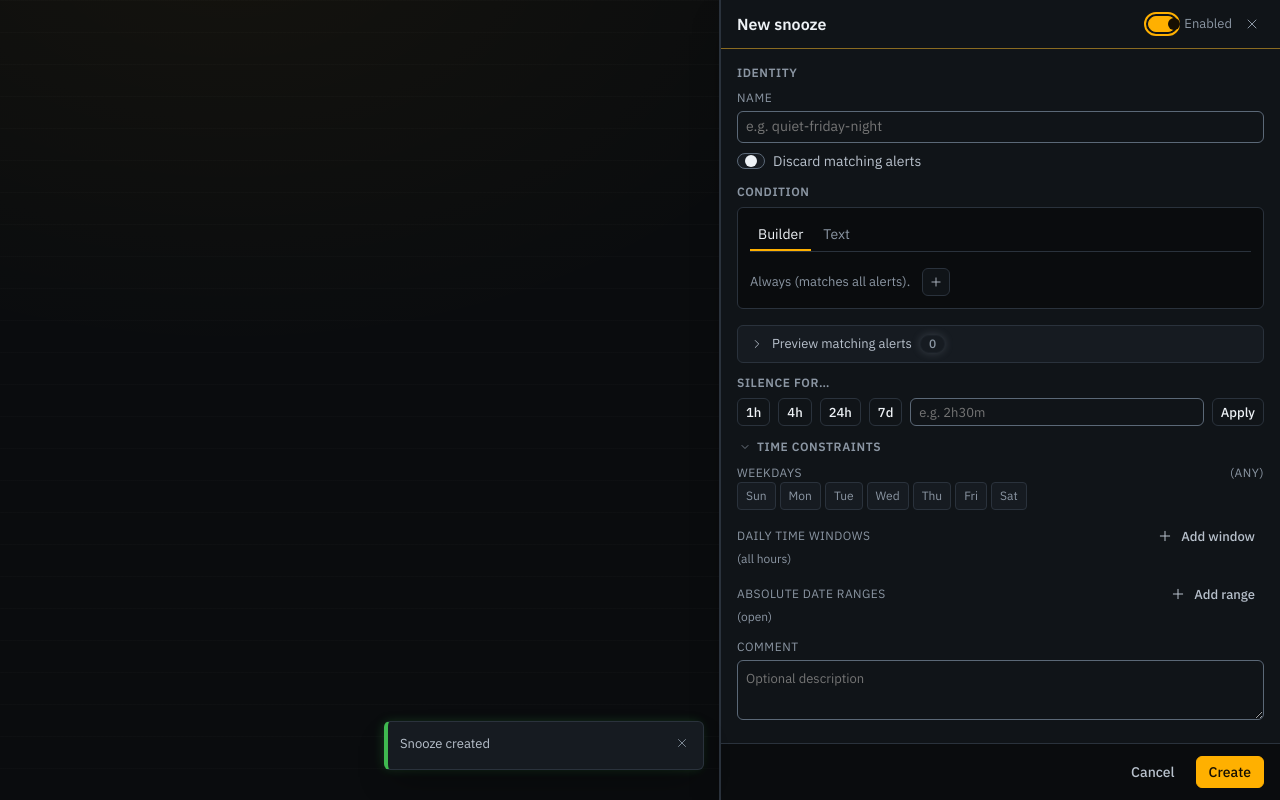
Scenario: SnoozeEditor › blocks save when a time range is left incomplete (no silent never-matching snooze)
Type "quiet-friday" into the field labelled "Name".
click(1000, 127); type("quiet-friday")  # box x1=738 y1=116 x2=1263 y2=137
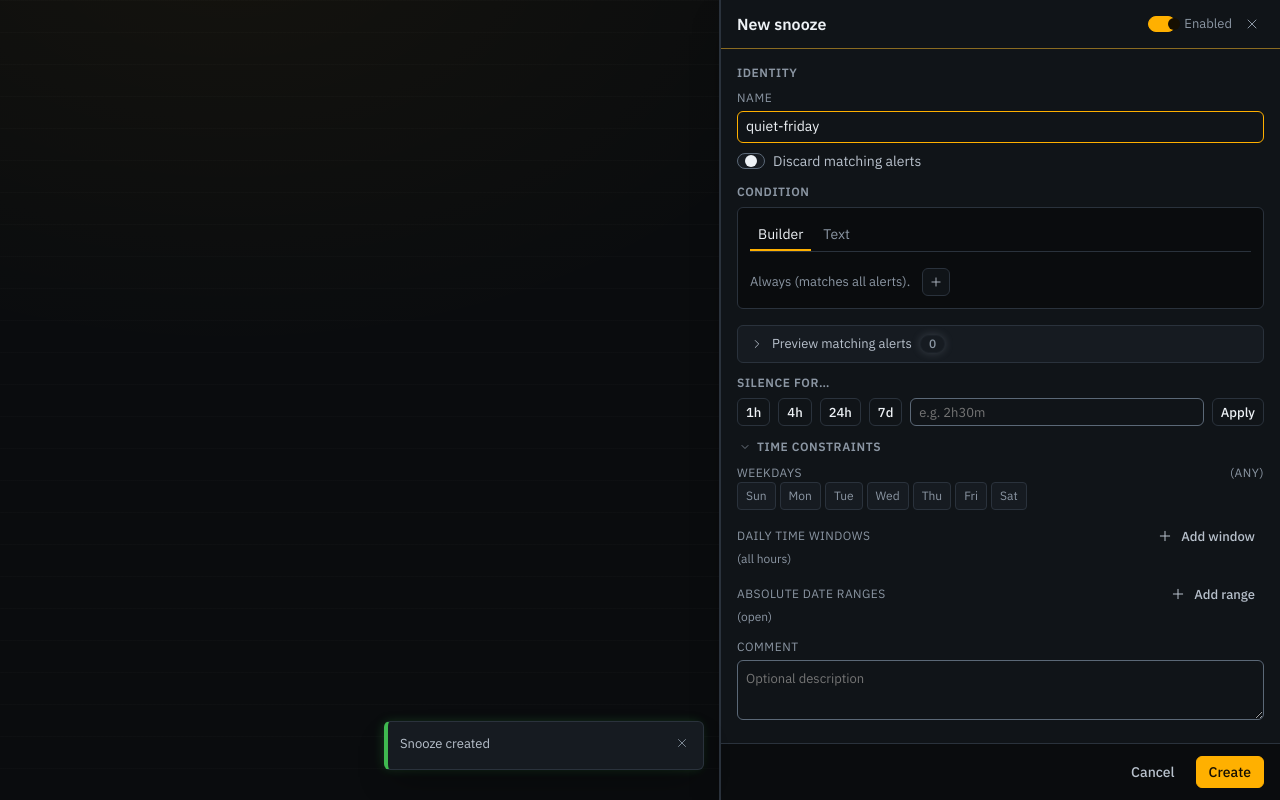
Add an absolute date range but leave both bounds empty.
Click the button "Add range".
click(1213, 594)  # box x1=1161 y1=580 x2=1264 y2=608
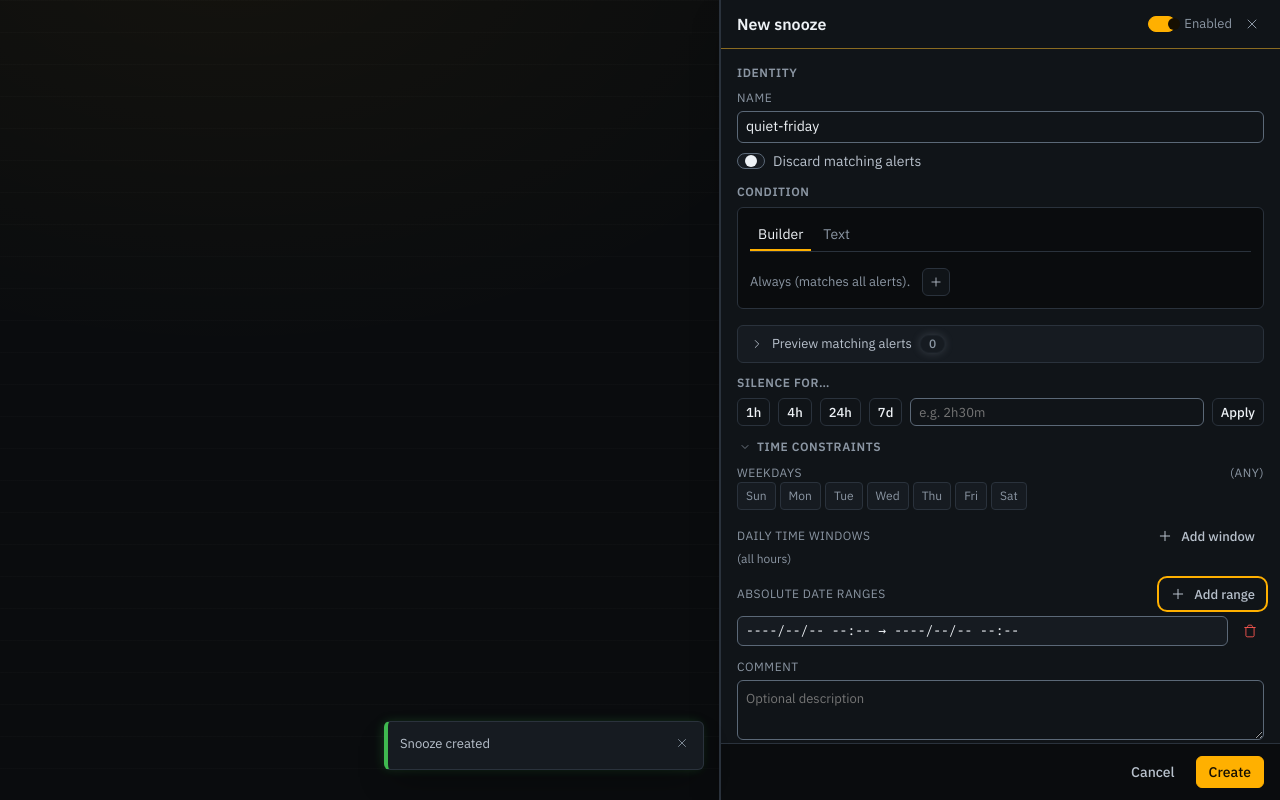
Click the button "Create".
click(1230, 772)  # box x1=1196 y1=756 x2=1264 y2=788
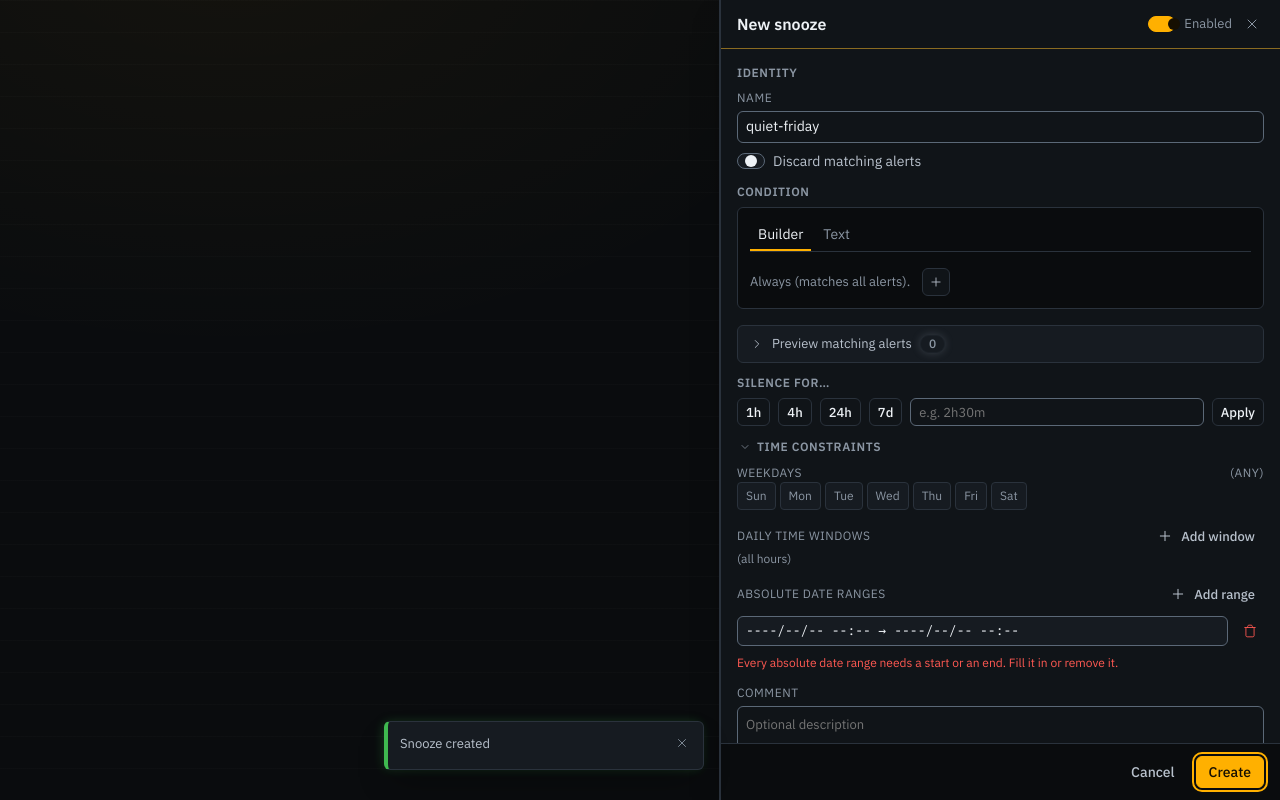
Now the text "Every absolute date range needs a start or an end. Fill it in or remove it." is shown, box x1=737 y1=655 x2=1118 y2=670
